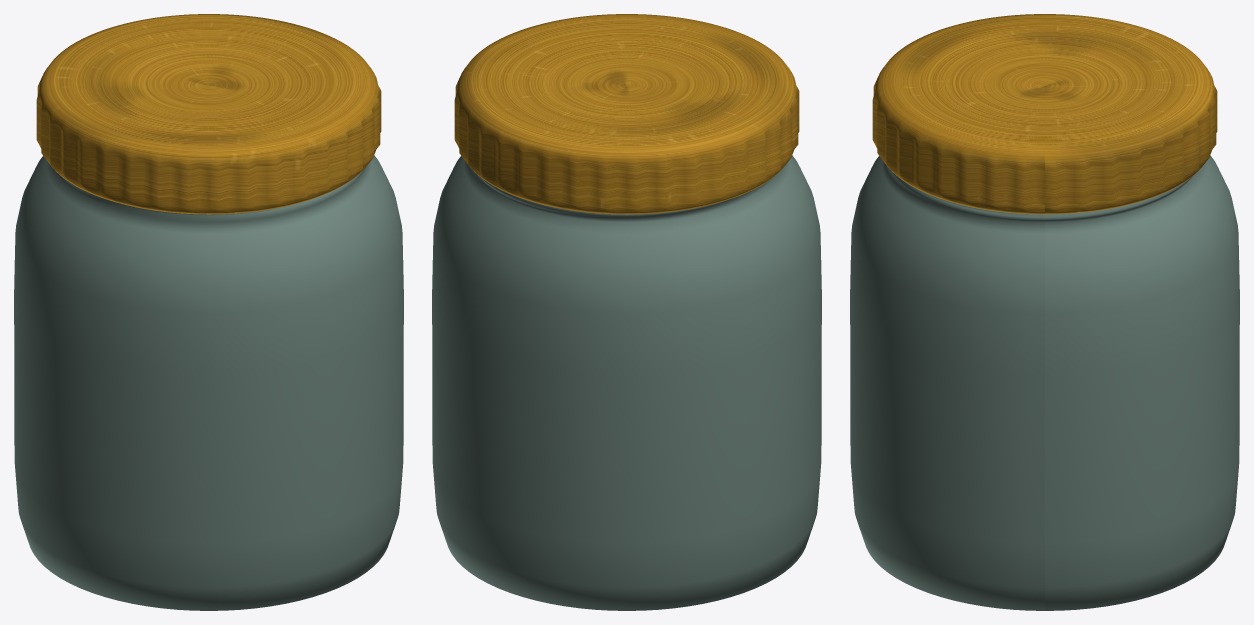
The model's file is tarro_vacio.glb.
The picture shows the model from 3 angles, left to right: view 1: azimuth 30°, elevation 25°; view 2: azimuth 150°, elevation 25°; view 3: azimuth 270°, elevation 25°; orthographic projection.
Visible parts, largest first — view 1: TarroVacio; view 2: TarroVacio; view 3: TarroVacio.
Boxes of the visible parts, bbox=[...] form: TarroVacio: bbox=[14, 14, 403, 610]; TarroVacio: bbox=[432, 14, 821, 610]; TarroVacio: bbox=[850, 14, 1239, 610].
Bounding box in the file's own units: 0.0842 × 0.1105 × 0.0842.
Materials: 2 (1 with a texture image).
